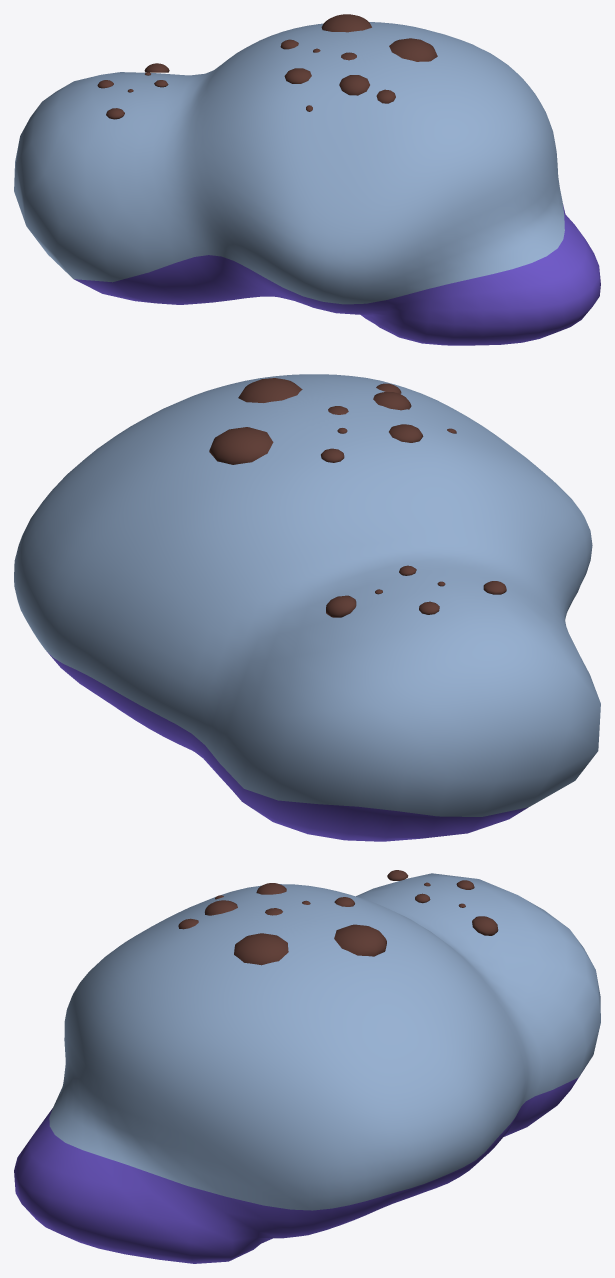
File: flat tree details.fbx
3 views of the same model, one above another, from view 1: azimuth 30°, elevation 25°; view 2: azimuth 150°, elevation 25°; view 3: azimuth 270°, elevation 25° (orthographic). The views are drawn at different scales.
Visible parts, largest first — view 1: trees.002; view 2: trees.002; view 3: trees.002.
Part boxes in pixels (bbox=[...]): trees.002: bbox=[14, 14, 600, 345]; trees.002: bbox=[14, 374, 600, 841]; trees.002: bbox=[14, 870, 600, 1263].
Size of the model in its own units: 978 by 510 by 961.
